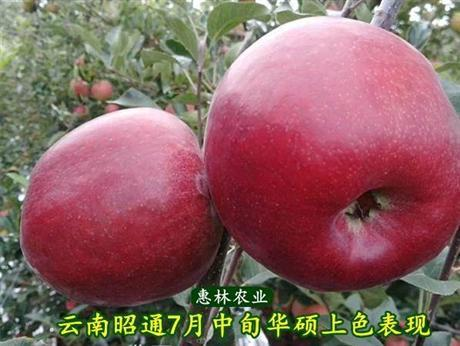apple: (200, 17, 460, 293), (17, 104, 221, 305), (89, 80, 114, 101)
